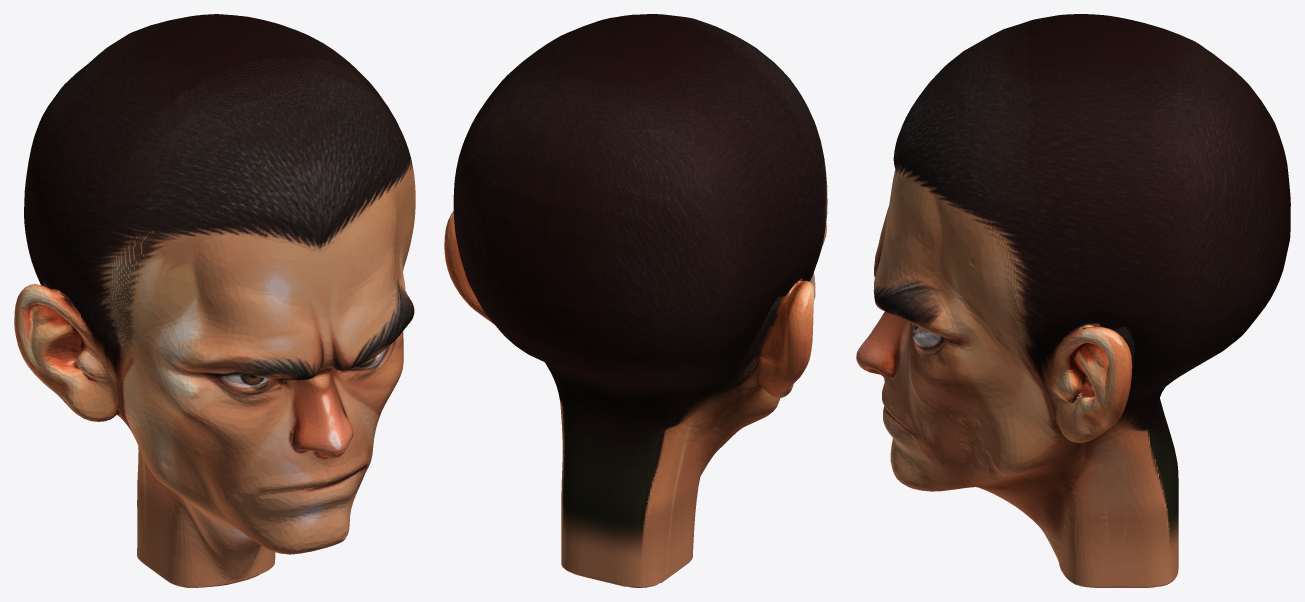
File: side_kenshai_repaired_atlas.glb
The picture shows the model from 3 angles, left to right: view 1: azimuth 30°, elevation 25°; view 2: azimuth 150°, elevation 25°; view 3: azimuth 270°, elevation 25°; orthographic projection. The views are drawn at different scales.
Parts seen in each view (by area): view 1: temp_mesh.ply; view 2: temp_mesh.ply; view 3: temp_mesh.ply.
Boxes of the visible parts, x1,y1,x2,y2 form: temp_mesh.ply: [14, 14, 415, 587]; temp_mesh.ply: [444, 14, 827, 587]; temp_mesh.ply: [856, 14, 1290, 587].
Size of the model in its own units: 1.47 by 1.97 by 1.46.
Materials: 1 (1 with a texture image).
